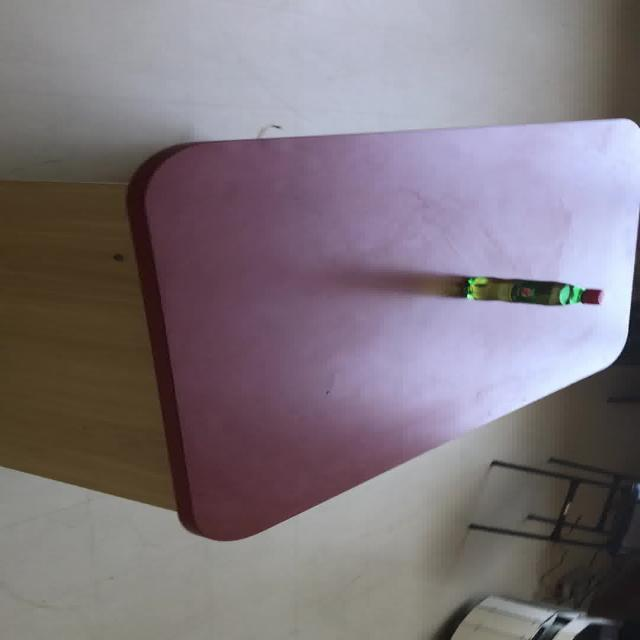guarana: (124, 117, 637, 540), (460, 275, 602, 306)
